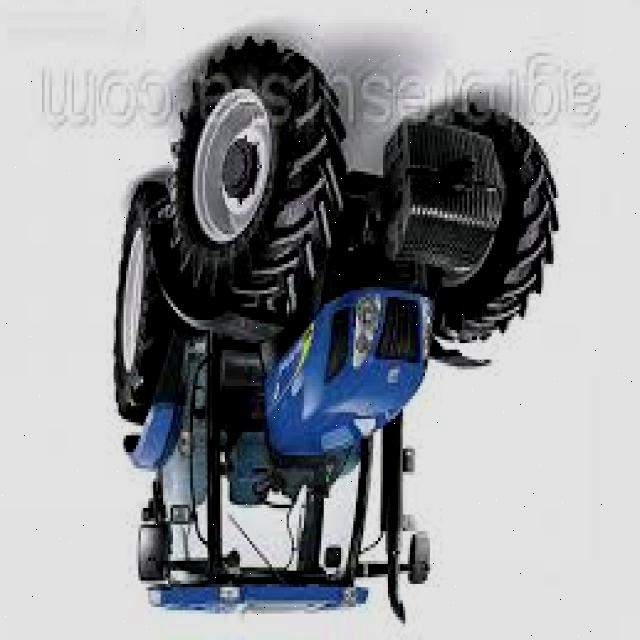Tratores - v5 YOLO V8L 2024-11-13: (112, 36, 558, 614)
